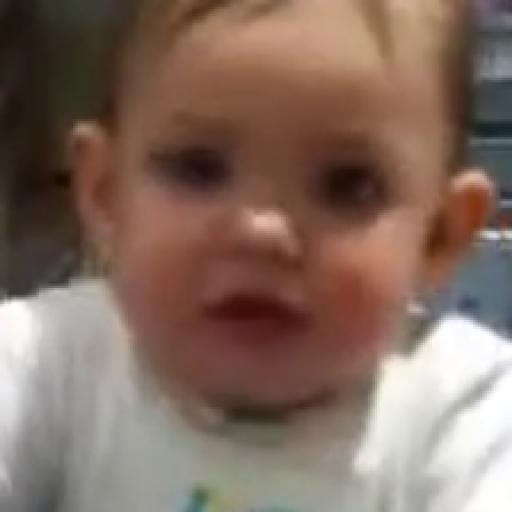Autism: (77, 8, 466, 404)
